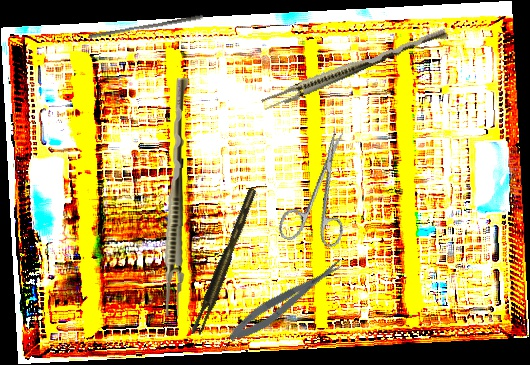Iris Scissors: (275, 122, 372, 255)
Micro Scissor: (223, 254, 351, 348)
Pusher: (88, 10, 204, 43)
Tissue Forceps: (260, 21, 449, 115), (185, 187, 265, 338), (162, 77, 190, 317)
